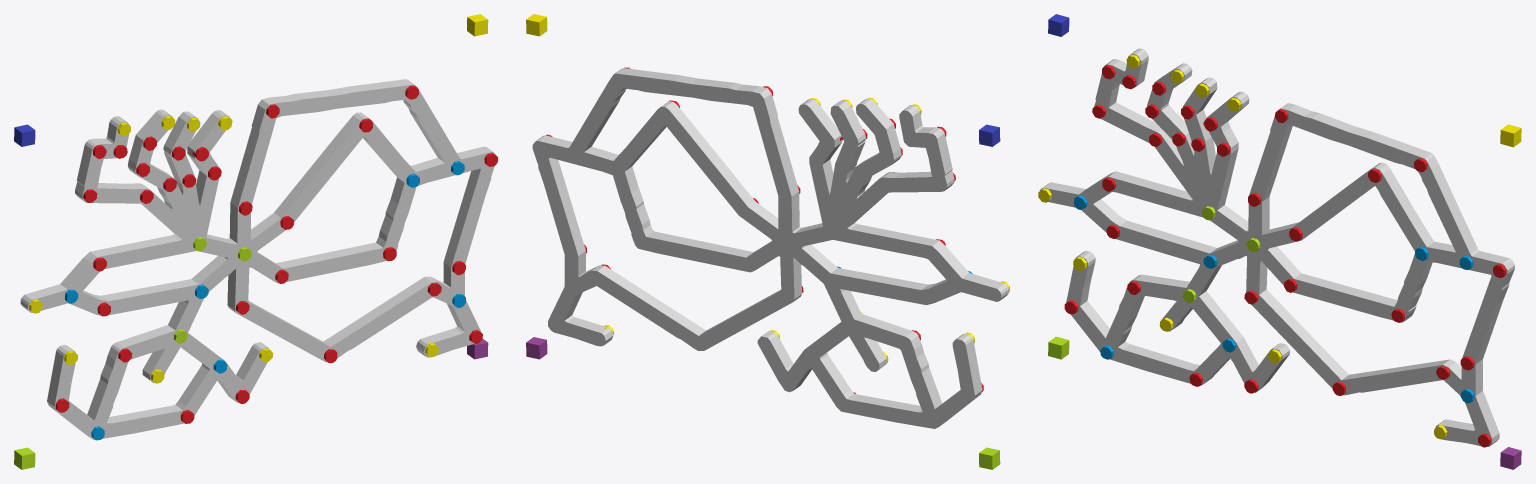
Rendered from demonetwork_from_screenshot_v4.obj.
The picture shows the model from 3 angles, left to right: view 1: azimuth 30°, elevation 25°; view 2: azimuth 150°, elevation 25°; view 3: azimuth 330°, elevation 25°; orthographic projection.
Parts seen in each view (by area): view 1: Object.5; view 2: Object.5; view 3: Object.5.
Boxes of the visible parts, x1,y1,x2,y2 form: Object.5: [20, 79, 496, 440]; Object.5: [532, 68, 1008, 428]; Object.5: [1039, 48, 1514, 447].
Bounding box in the file's own units: 208 × 143 × 13.35.
